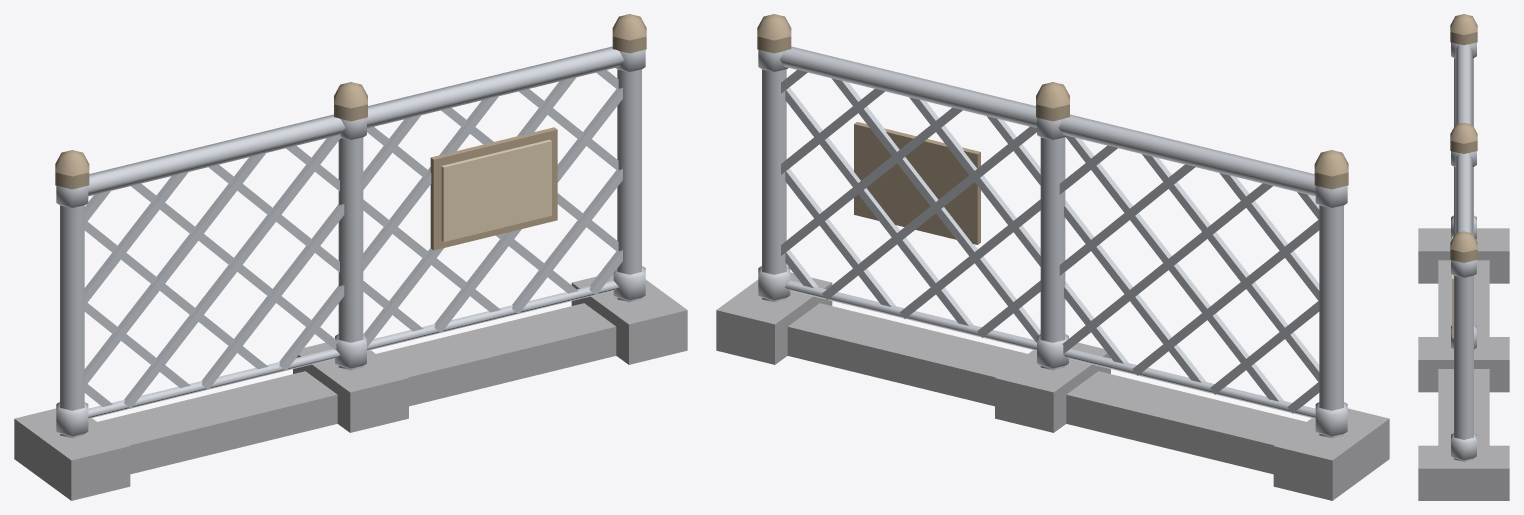
File: building.chainfence.glb
3 renders of one model, left to right at view 1: azimuth 30°, elevation 25°; view 2: azimuth 150°, elevation 25°; view 3: azimuth 270°, elevation 25°, orthographic. The views are drawn at different scales.
Parts seen in each view (by area): view 1: Metal, Stone, Paint, PaintDark; view 2: Metal, Stone, PaintDark; view 3: Stone, Metal, PaintDark, Paint.
Boxes of the visible parts, bbox=[...] form: Metal: bbox=[56, 46, 645, 438]; Stone: bbox=[14, 273, 687, 500]; Paint: bbox=[441, 139, 551, 241]; PaintDark: bbox=[55, 14, 646, 250]; Metal: bbox=[758, 46, 1347, 438]; Stone: bbox=[716, 272, 1389, 500]; PaintDark: bbox=[757, 14, 1348, 244]; Stone: bbox=[1418, 228, 1509, 500]; Metal: bbox=[1451, 42, 1476, 461]; PaintDark: bbox=[1450, 14, 1477, 262]; Paint: bbox=[1452, 236, 1453, 338].
Bounding box in the file's own units: 1.99 × 0.995 × 0.32.
